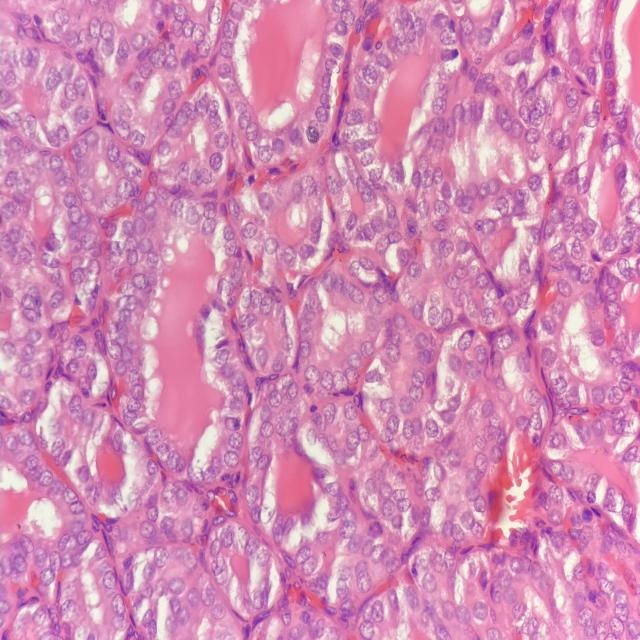TC: (428, 232, 462, 269), (367, 280, 394, 311), (259, 228, 281, 266), (300, 356, 323, 392), (428, 196, 455, 225), (328, 365, 349, 401), (375, 391, 401, 420), (296, 166, 319, 198), (483, 194, 513, 218), (389, 308, 411, 340), (255, 137, 277, 168), (356, 178, 380, 206), (279, 240, 299, 272), (513, 287, 535, 316), (424, 301, 445, 331), (491, 330, 518, 353), (255, 291, 273, 325), (240, 214, 261, 243), (341, 283, 363, 310), (201, 196, 223, 223), (143, 249, 165, 276), (356, 337, 378, 363), (248, 347, 271, 371), (474, 306, 499, 326), (265, 388, 284, 414), (339, 402, 360, 425), (407, 366, 429, 387), (431, 165, 446, 189)
